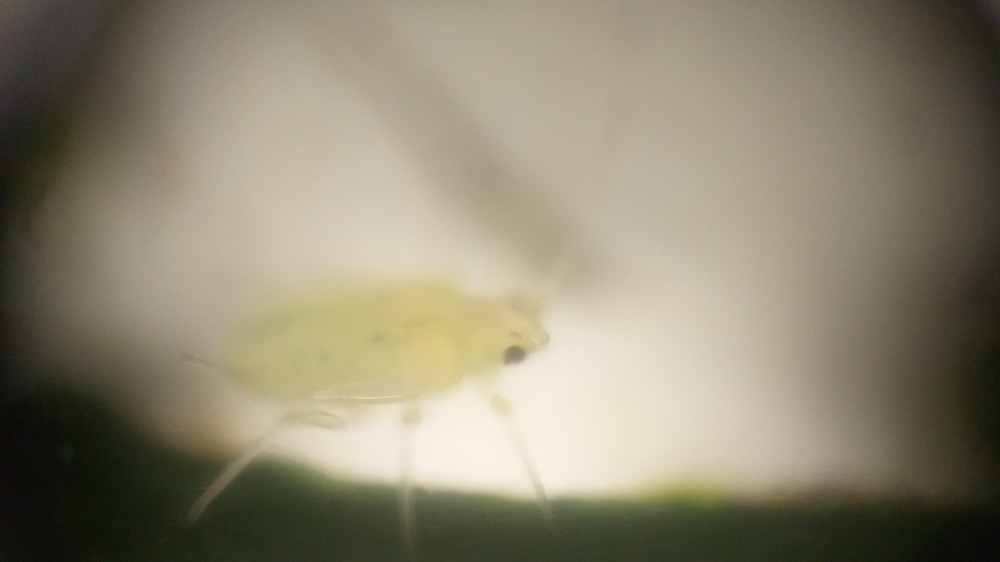Pulgon: (166, 222, 624, 538)
